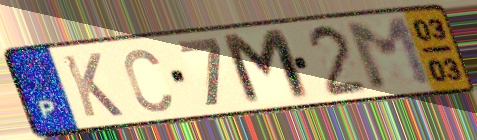2: (307, 21, 371, 98)
7: (173, 34, 227, 110)
C: (121, 46, 176, 115)
K: (59, 51, 127, 120)
M: (217, 26, 317, 109), (341, 14, 440, 94)
